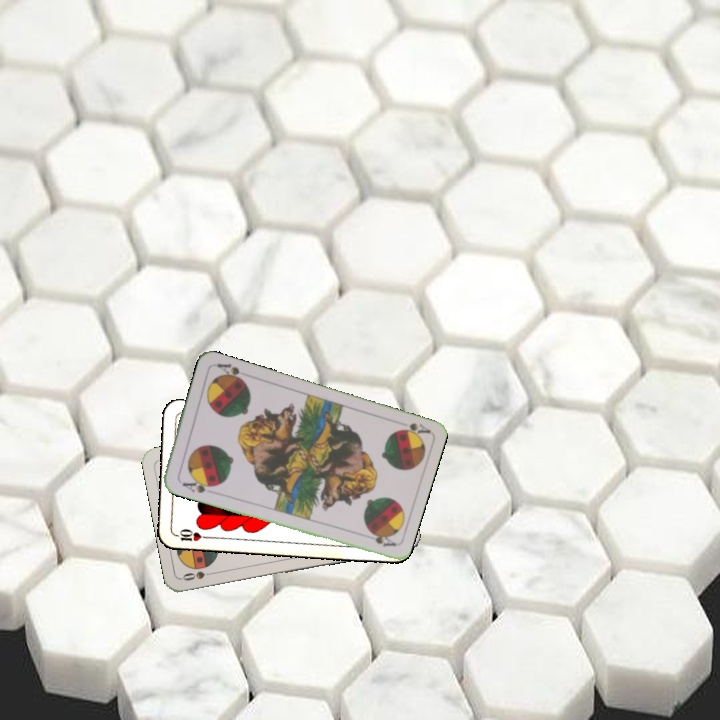H10: (170, 525, 211, 544)
SA: (178, 475, 217, 496), (394, 419, 432, 440)
SO: (178, 567, 219, 583)
